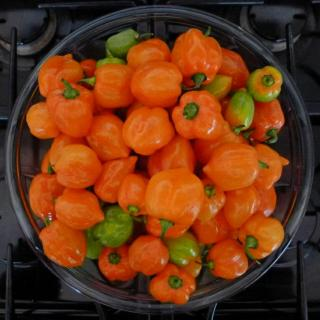Bell pepper: (28, 26, 290, 305)
